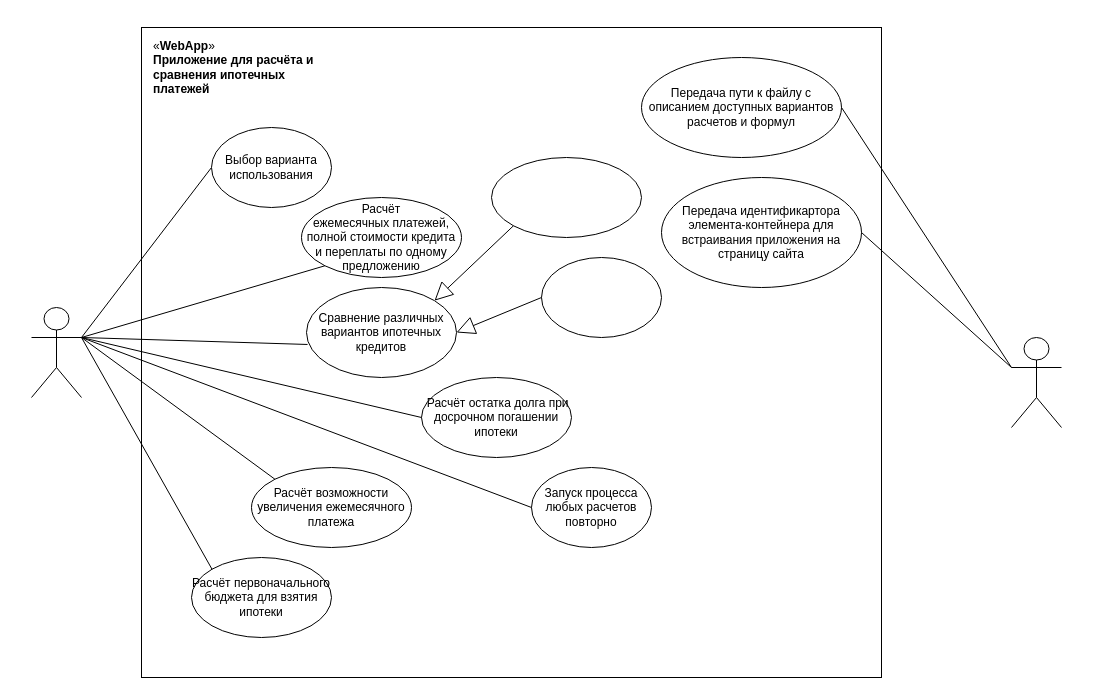
The diagram is 1106 pixels wide and 695 high, and some of its shapes have lost their labels. The shapes that lost their labels are listed below. From the top down, each one's centre as x and y in pixels, then its label:
point (566, 197): Сравнение ипотечных предложений от разных банков
point (601, 297): Сравнение ипотечных предложений от одного банка
point (56, 352): Пользователь
point (1036, 382): Разработчик сайта
